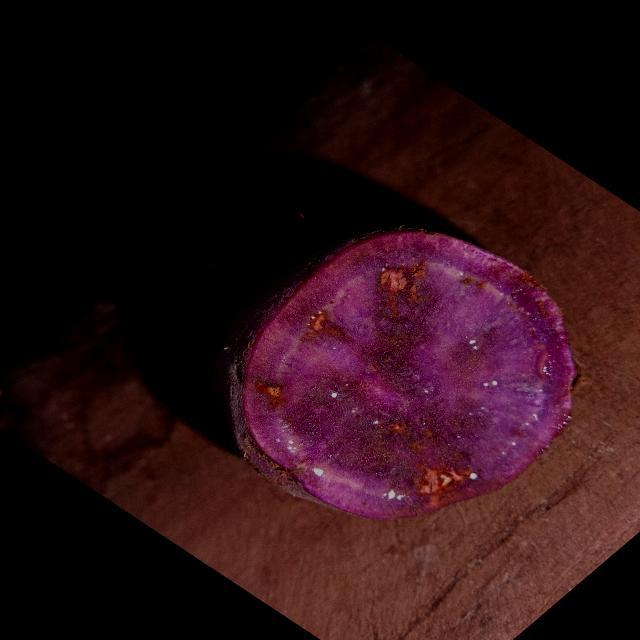Sick Sweet Potato_Tuber Rot: (213, 228, 577, 519)
